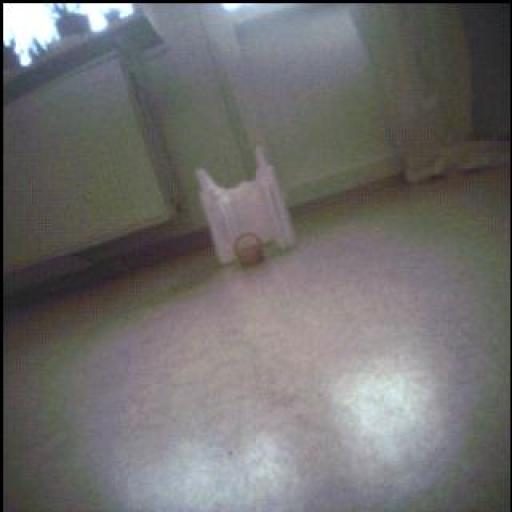Basket: (235, 233, 265, 268)
